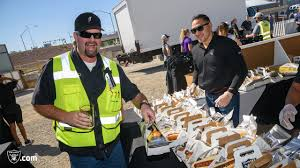high-vis: (51, 52, 121, 145), (257, 20, 270, 40)
